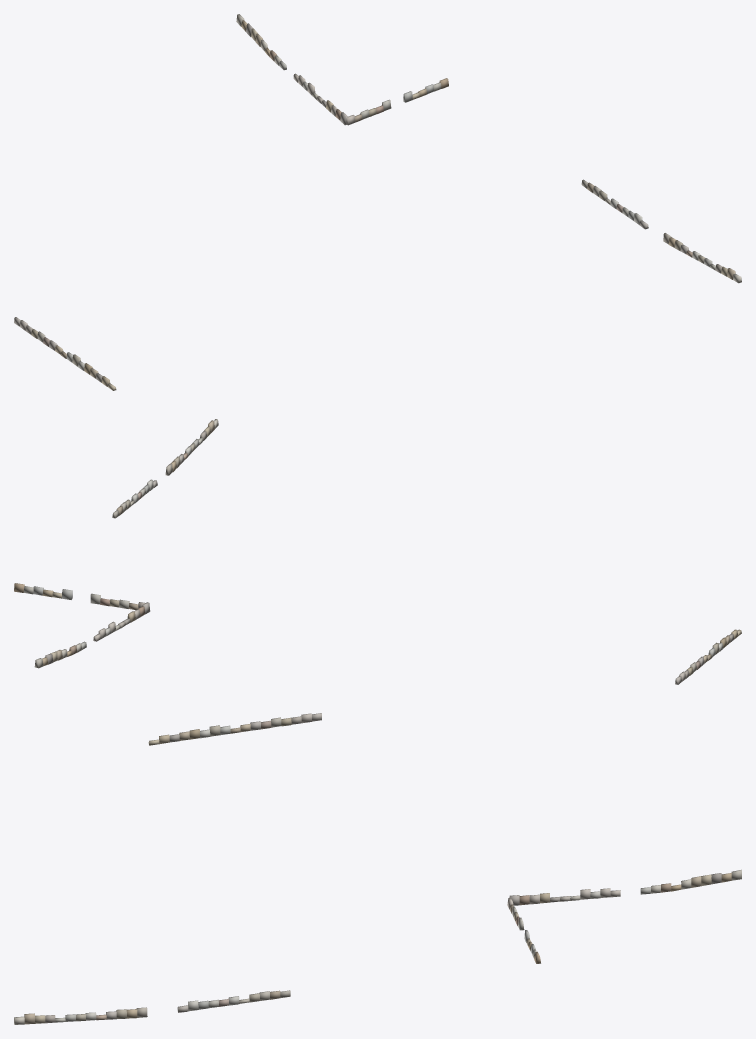
Rendered from farm_5_22_far.glb.
The picture shows the model from 3 angles, top to bottom: view 1: azimuth 30°, elevation 25°; view 2: azimuth 150°, elevation 25°; view 3: azimuth 270°, elevation 25°; orthographic projection. The views are drawn at different scales.
Visible parts, largest first — view 1: geometry_0; view 2: geometry_0; view 3: geometry_0.
Boxes of the visible parts, x1,y1,x2,y2 form: geometry_0: (14,14,741,390); geometry_0: (14,419,741,684); geometry_0: (14,713,741,1024).
Size of the model in its own units: 112 by 14.31 by 112.
